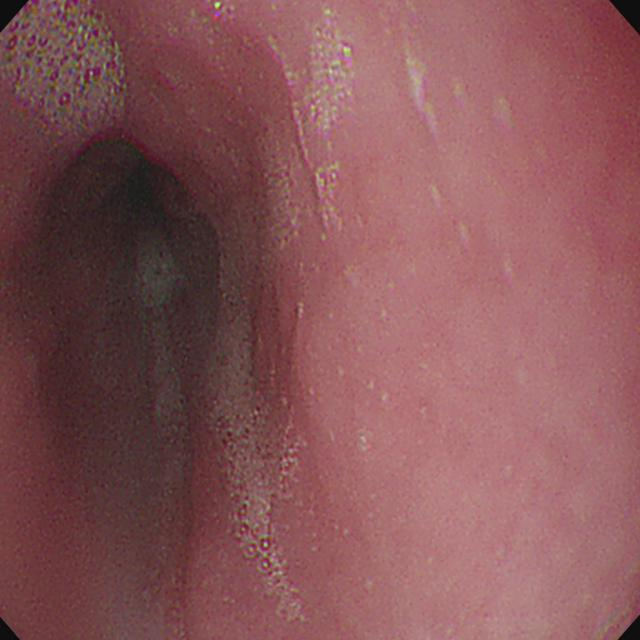E: (76, 136, 200, 253)
T: (209, 361, 307, 623), (2, 2, 128, 136)
